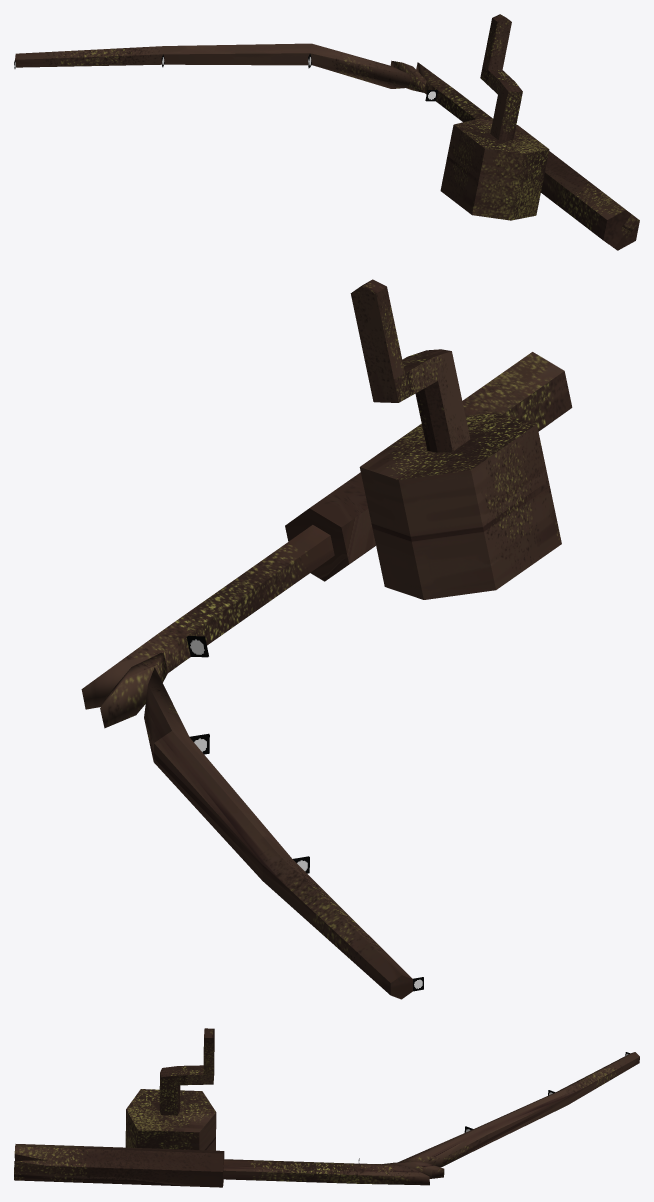
File: Fishing_rod02.fbx
3 views of the same model, one above another, from view 1: azimuth 30°, elevation 25°; view 2: azimuth 150°, elevation 25°; view 3: azimuth 270°, elevation 25° (orthographic). The views are drawn at different scales.
Parts seen in each view (by area): view 1: Fishing_rod02; view 2: Fishing_rod02; view 3: Fishing_rod02.
Boxes of the visible parts, bbox=[...] form: Fishing_rod02: bbox=[14, 14, 639, 250]; Fishing_rod02: bbox=[81, 279, 572, 999]; Fishing_rod02: bbox=[14, 1028, 639, 1187].
Size of the model in its own units: 0.53 by 0.2896 by 1.06.
2 materials, 2 textured.
